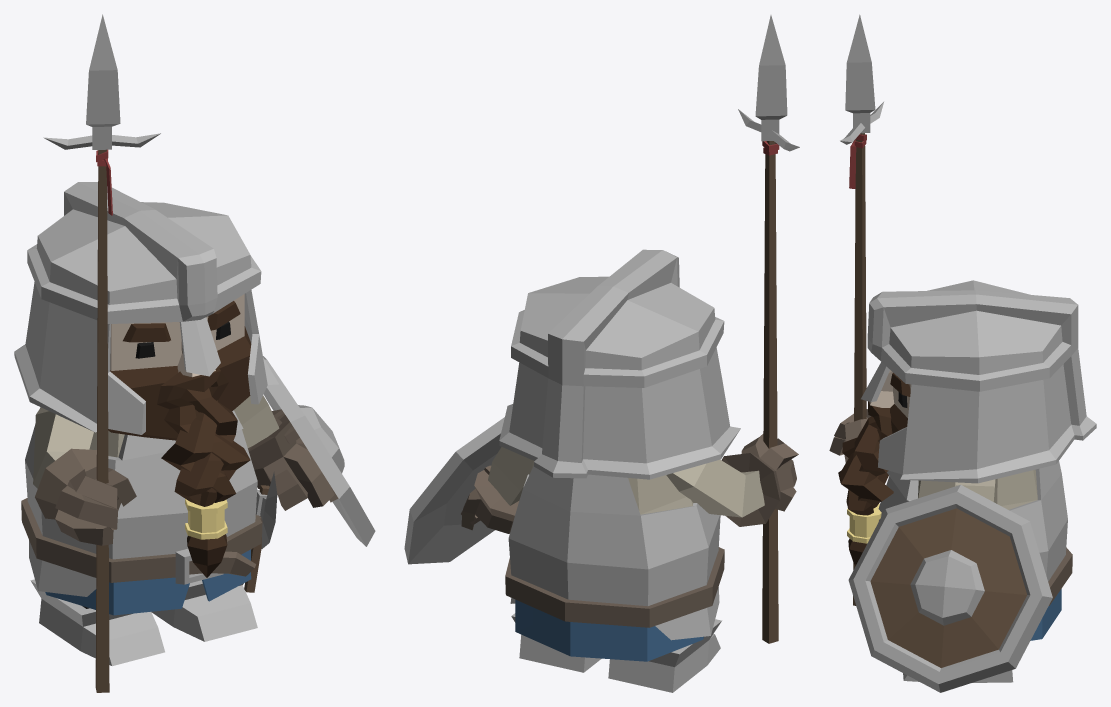
Rendered from guerrier-3.glb.
The picture shows the model from 3 angles, left to right: view 1: azimuth 30°, elevation 25°; view 2: azimuth 150°, elevation 25°; view 3: azimuth 270°, elevation 25°; orthographic projection. The views are drawn at different scales.
Visible parts, largest first — view 1: DwarfGuard_GEO_CharTxt_MAT_0; view 2: DwarfGuard_GEO_CharTxt_MAT_0; view 3: DwarfGuard_GEO_CharTxt_MAT_0.
Part boxes in pixels (x1,y1,x2,y2): DwarfGuard_GEO_CharTxt_MAT_0: (14, 14, 375, 692); DwarfGuard_GEO_CharTxt_MAT_0: (404, 15, 799, 692); DwarfGuard_GEO_CharTxt_MAT_0: (829, 14, 1096, 692).
Size of the model in its own units: 1.29 by 2.33 by 0.9569.
1 material, 1 textured.
